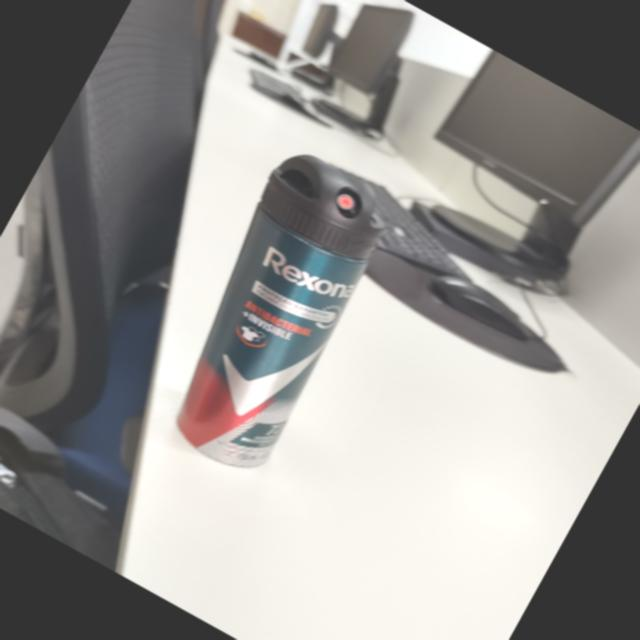Desodorante Azul: (178, 155, 384, 467)
